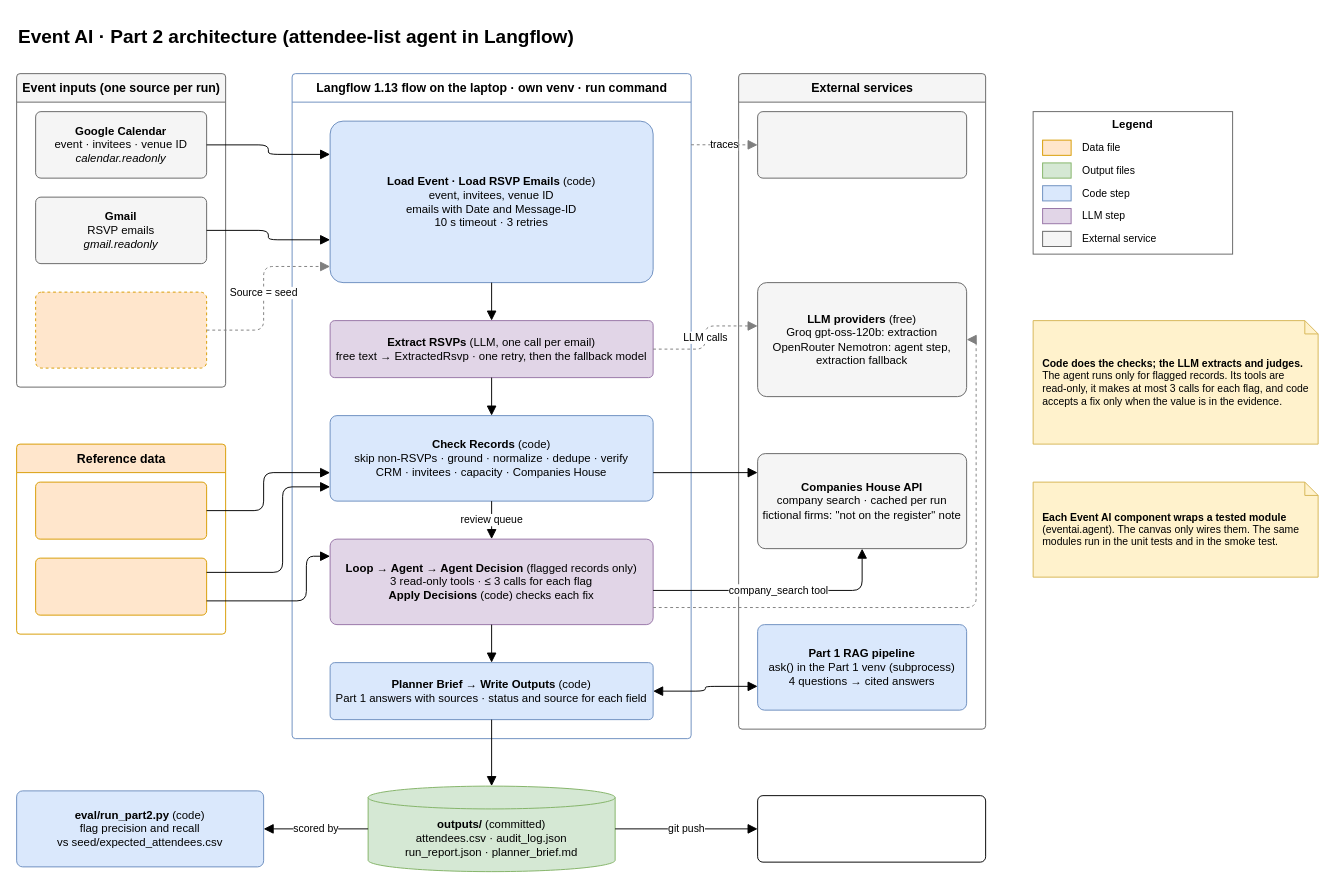
This 1335x888 diagram has some shape labels left out. The shapes that lost their labels are listed below. From the top down, each one's centre as x and y in pixels, then its label:
At point (862, 144): "Langfuse Cloud one trace per run (Langflow server)".
At point (121, 329): "Seed files (offline source) seed/event.yaml seed/rsvp_emails.yaml".
At point (121, 510): "venues.csv seated capacity (Part 1 data)".
At point (121, 586): "crm.csv known contacts".
At point (871, 828): "Streamlit app (Community Cloud) Part 2 results page · read-only".
